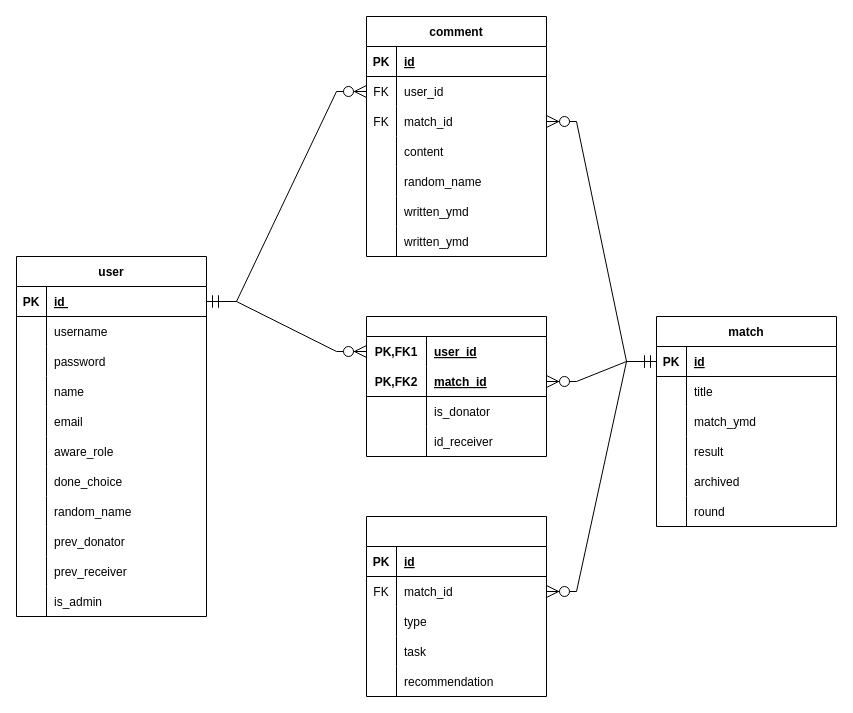
Some shapes in this 853 by 713 pixel diagram are drawn without their labels. Here are the shapes that lost their labels. From the top down, the box of each, then its label:
(366, 316, 546, 456): user_match
(366, 516, 546, 696): action
